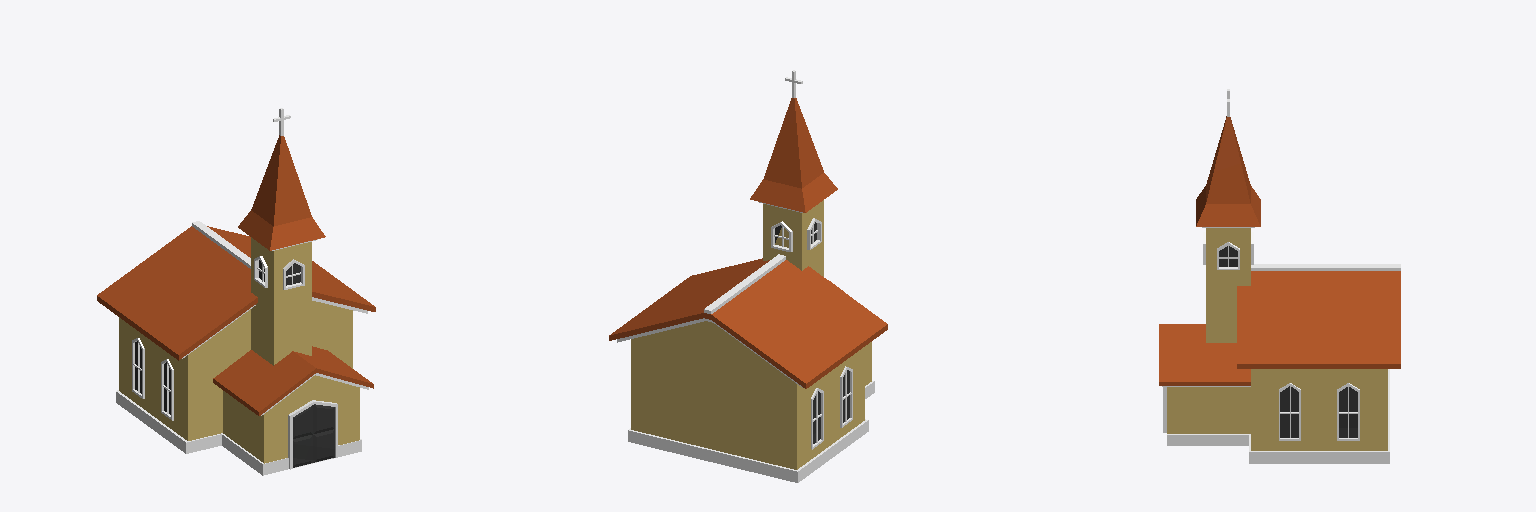
The picture shows the model from 3 angles: view 1: azimuth 30°, elevation 25°; view 2: azimuth 150°, elevation 25°; view 3: azimuth 270°, elevation 25°; orthographic projection.
Parts seen in each view (by area): view 1: Cube.003_Cube.001; view 2: Cube.003_Cube.001; view 3: Cube.003_Cube.001.
Part boxes in pixels (bbox=[...]): Cube.003_Cube.001: bbox=[97, 108, 375, 475]; Cube.003_Cube.001: bbox=[609, 70, 887, 482]; Cube.003_Cube.001: bbox=[1159, 89, 1400, 463].
Size of the model in its own units: 18.98 by 30.53 by 20.16.
Materials: 1 (1 with a texture image).